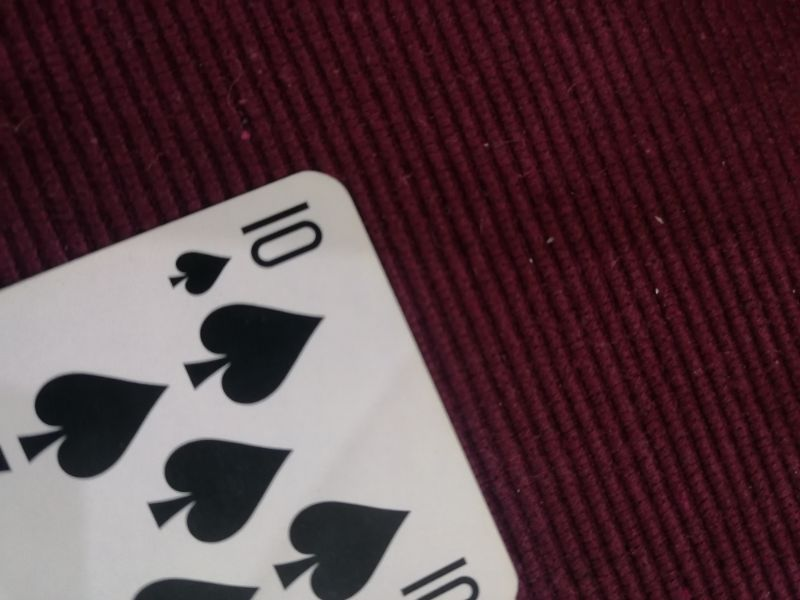Ts: (166, 193, 326, 300)
